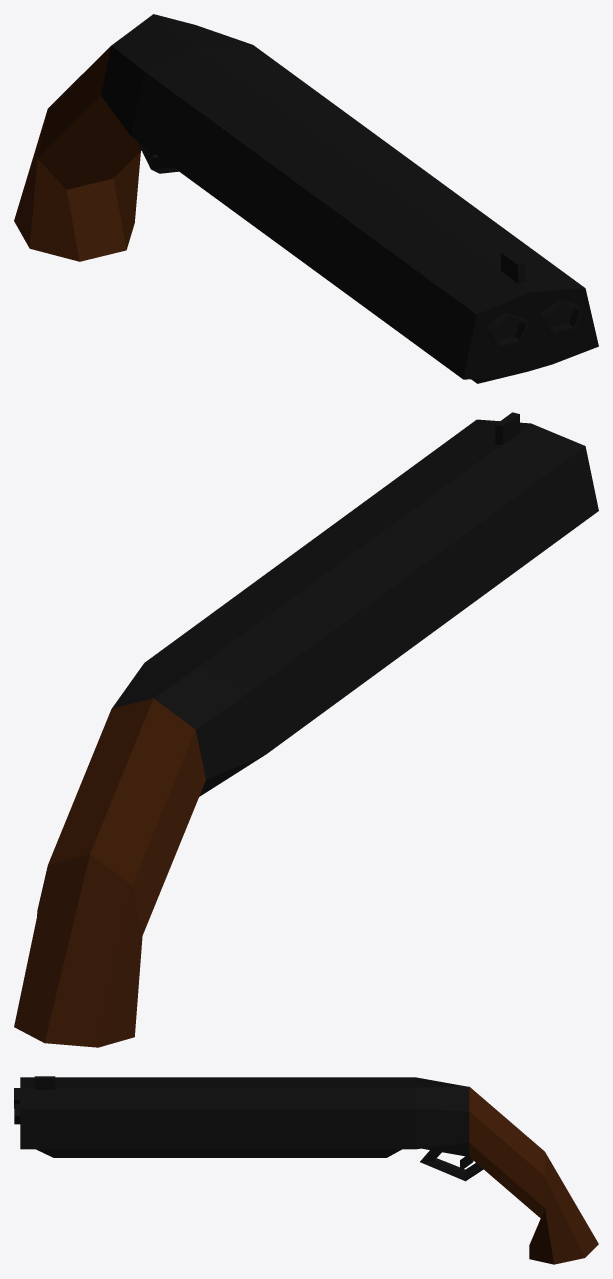
The model's file is ShotGun.fbx.
3 renders of one model, top to bottom at view 1: azimuth 30°, elevation 25°; view 2: azimuth 150°, elevation 25°; view 3: azimuth 270°, elevation 25°, orthographic. The views are drawn at different scales.
Visible parts, largest first — view 1: Cylinder; view 2: Cylinder; view 3: Cylinder.
Boxes of the visible parts, box(x1,y1,x2,y2) form: Cylinder: box(14, 14, 598, 383); Cylinder: box(14, 412, 598, 1047); Cylinder: box(14, 1076, 598, 1264).
Bounding box in the file's own units: 195 × 406 × 1225.
